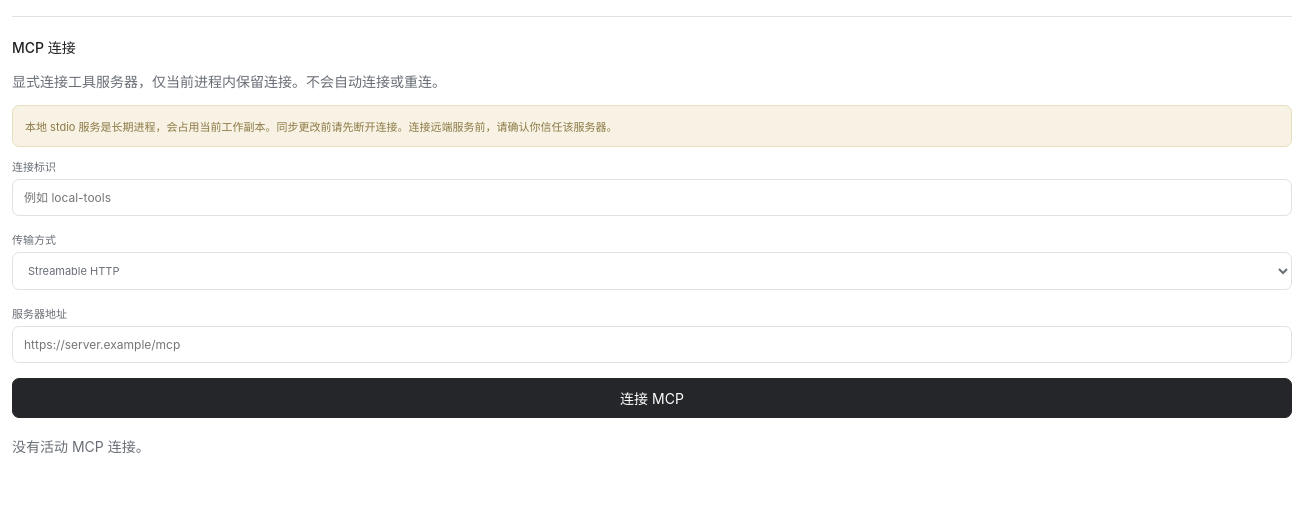
Test: MCP 显式连接 › 连接失败保持错误信息，不显示虚假成功
Type "remote" into the field labelled "连接标识". click: (652, 198)
box: [12, 179, 1292, 216]
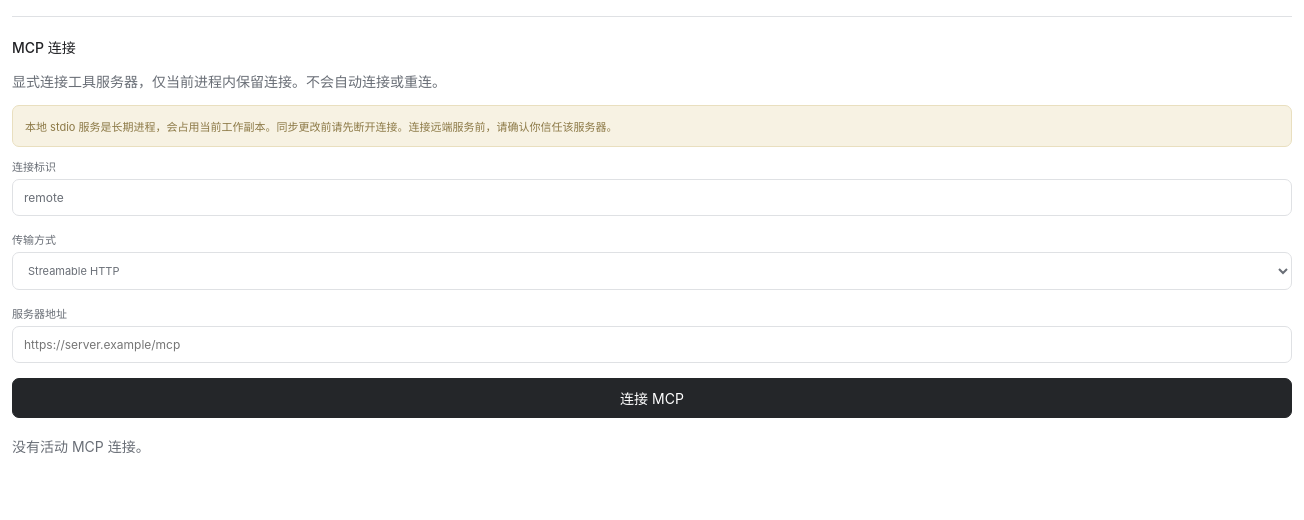
Type "https://example.test/mcp" into the field labelled "服务器地址". click: (652, 344)
box: [12, 326, 1292, 363]
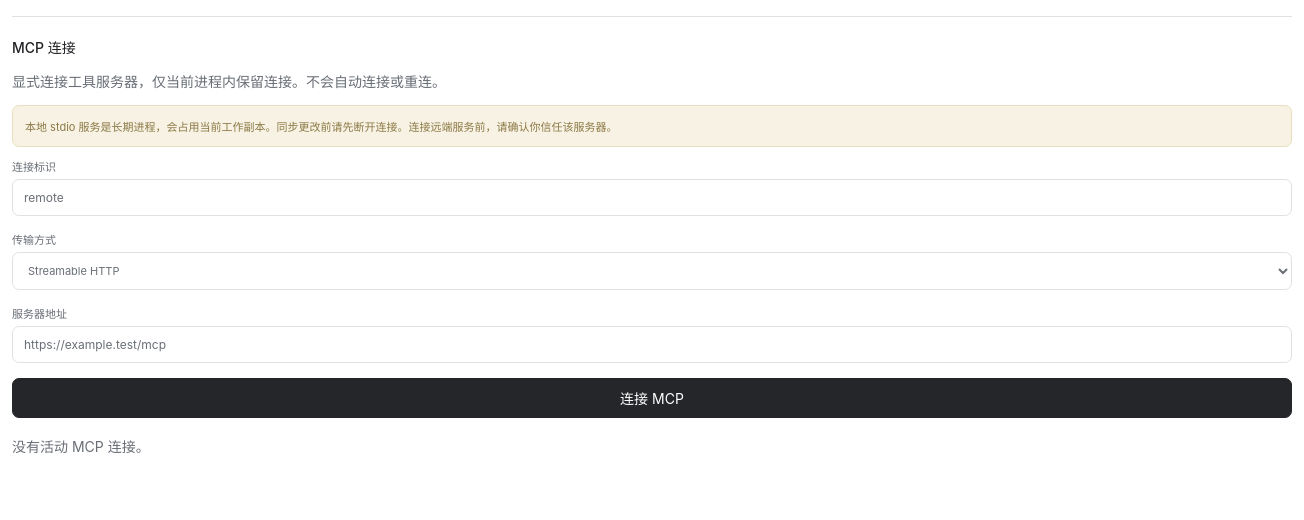
Click the button "连接 MCP". click: (652, 398)
box: [12, 378, 1292, 418]
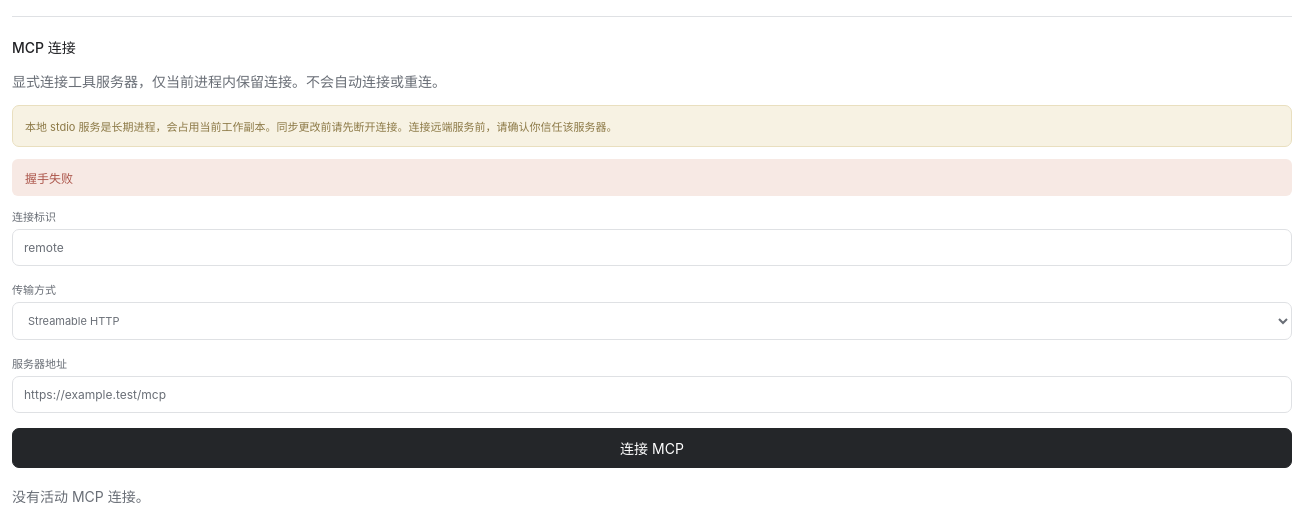
Now the text "握手失败" is shown, box [12, 159, 1292, 196]
